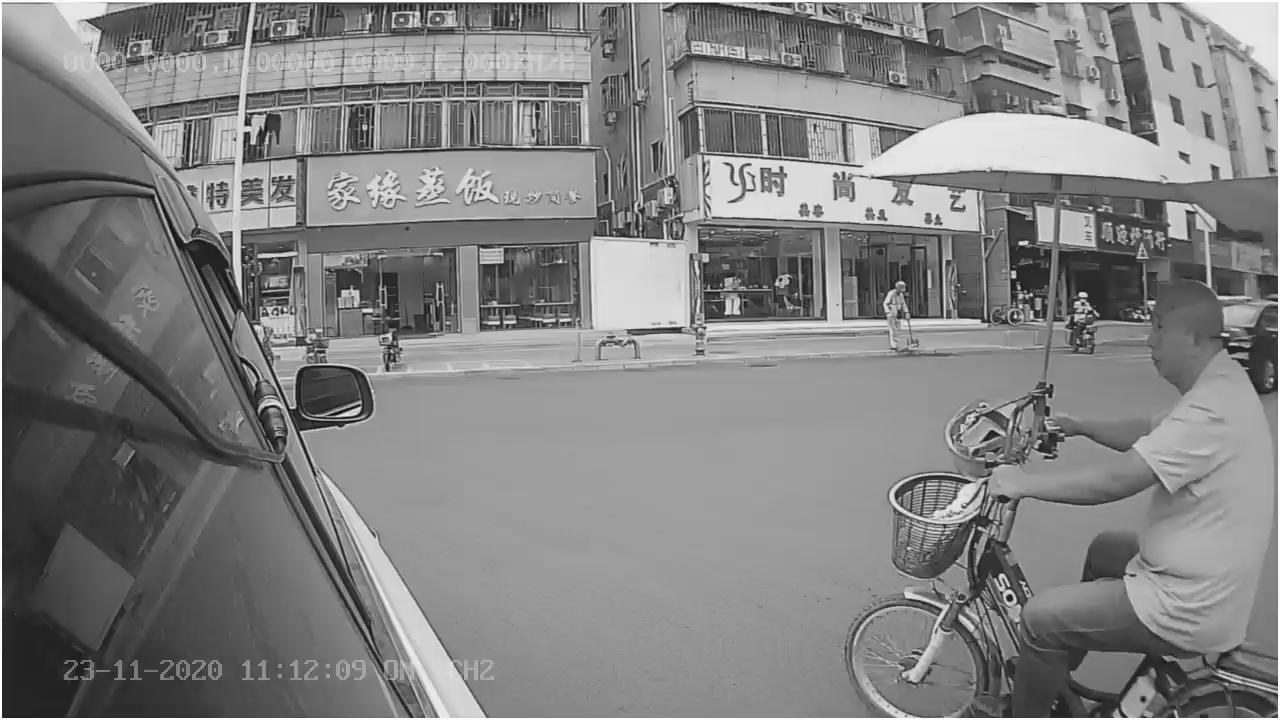person: (1064, 291, 1270, 658)
